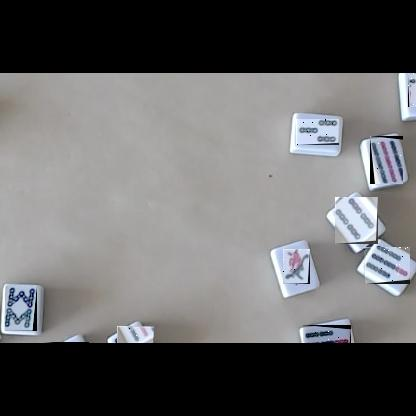1s: (283, 249, 310, 284), (408, 73, 416, 107)
3s: (296, 119, 339, 145)
4s: (335, 197, 378, 244)
6s: (43, 342, 89, 343)
7s: (364, 247, 410, 284), (303, 325, 351, 343)
8s: (5, 285, 37, 331)
9s: (370, 136, 403, 184), (117, 326, 154, 343)
